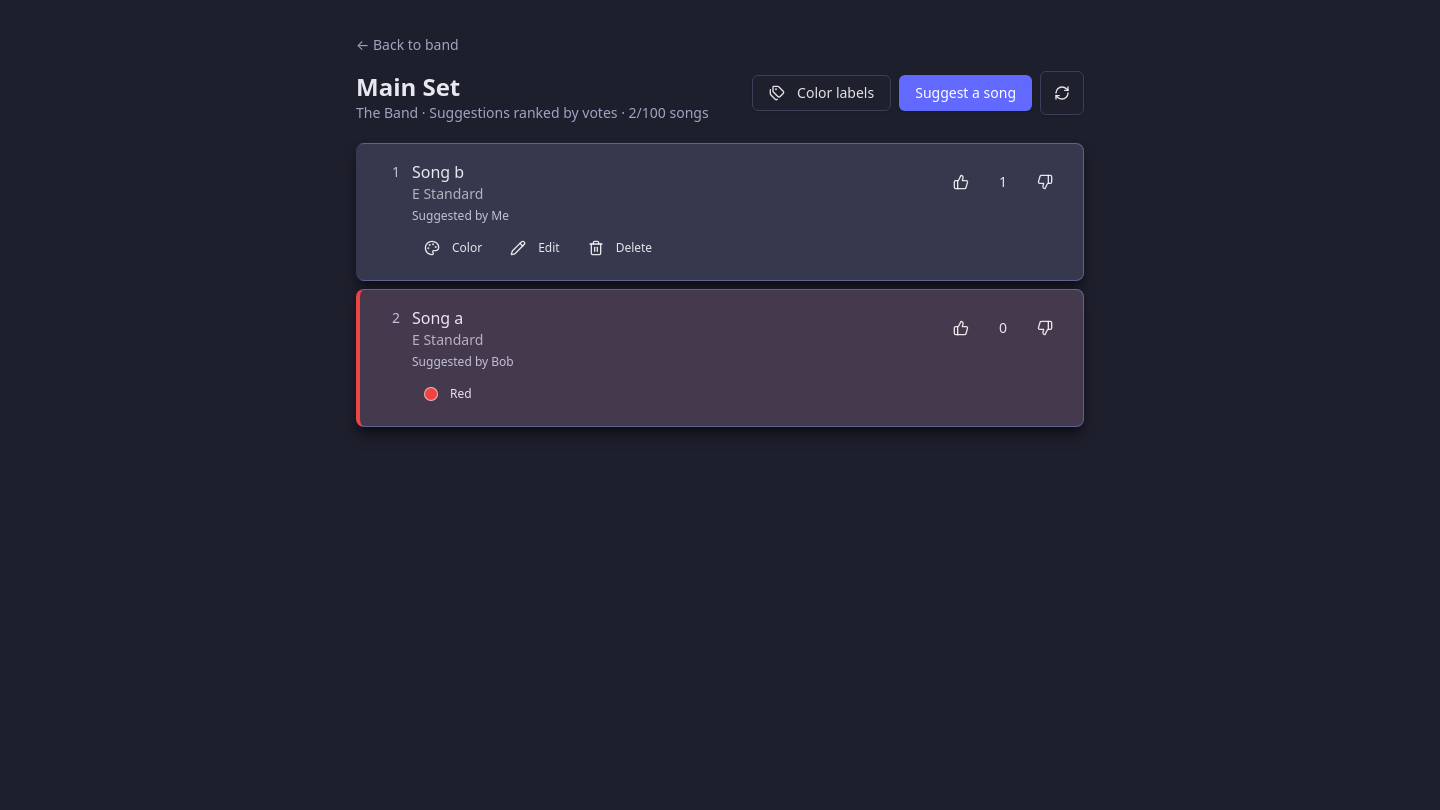
Test: SetListPage › color labels › Color labels dialog › a label shows on a colored song right after saving
Expected: the text "Song a" is shown, 412,307 -> 463,329
Click the button "Color labels" at (822, 93), box 752,75 -> 891,111
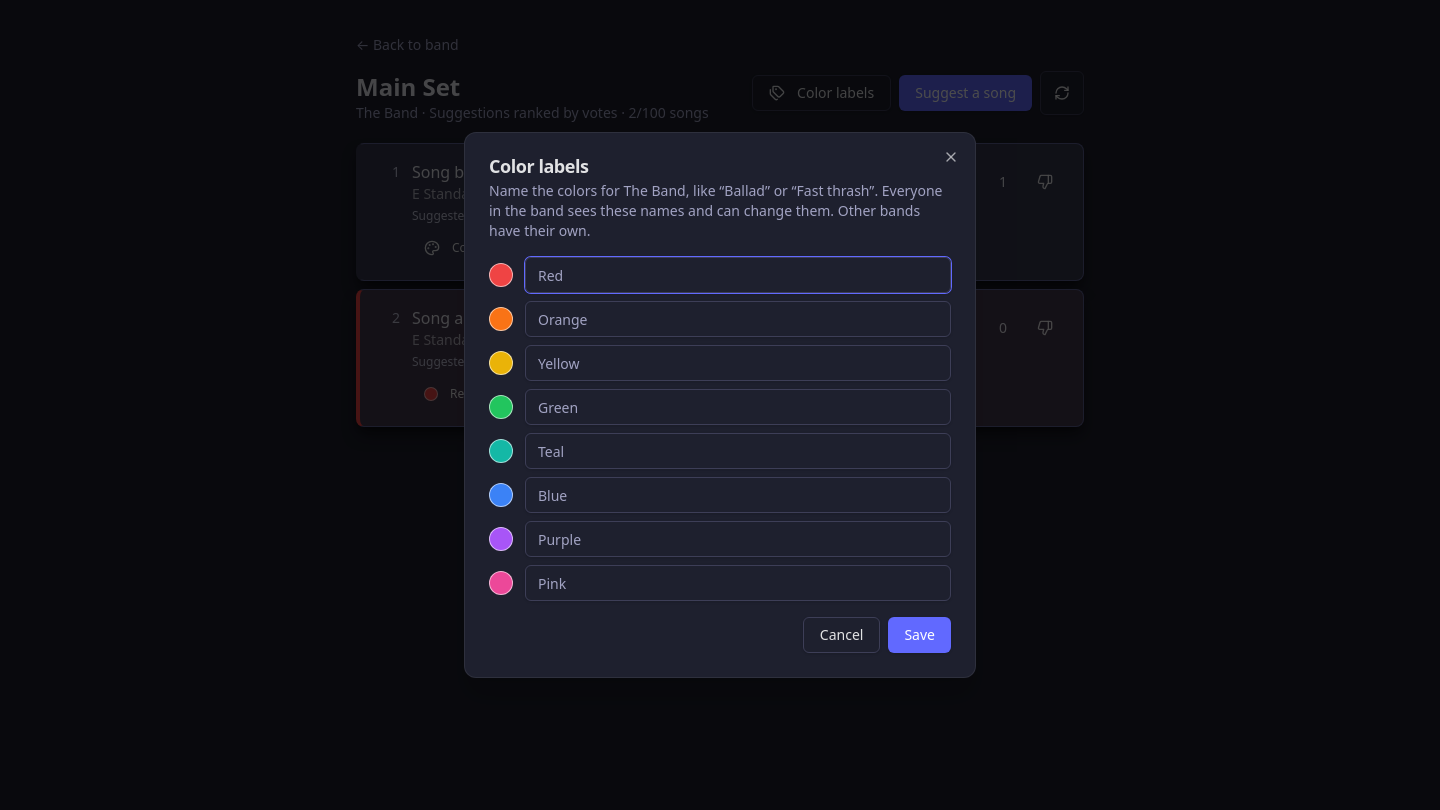
Type "Ballad" into the field with placeholder "Red" at (738, 275), box 525,257 -> 951,293
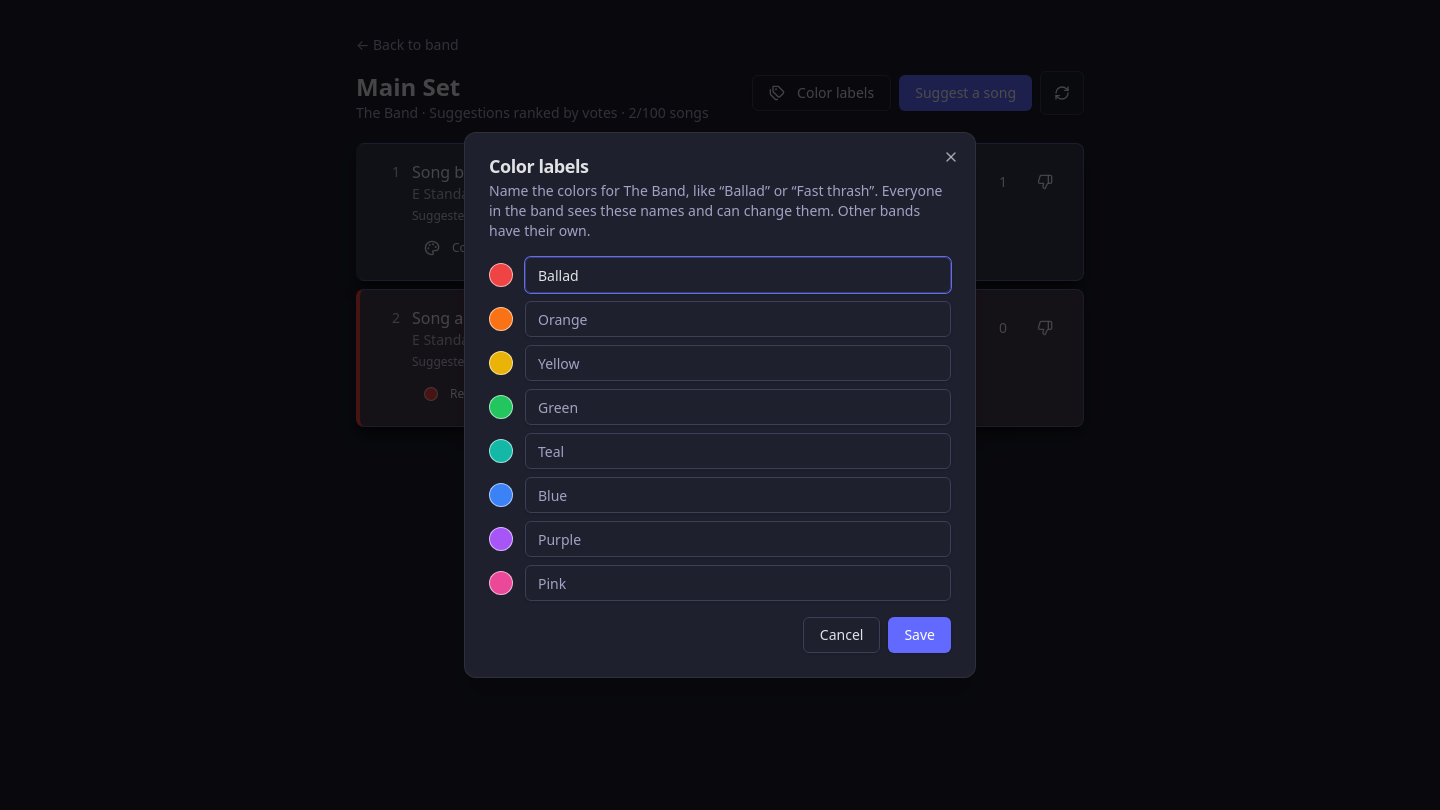
Click the button "Save" at (920, 635), box 888,617 -> 951,653
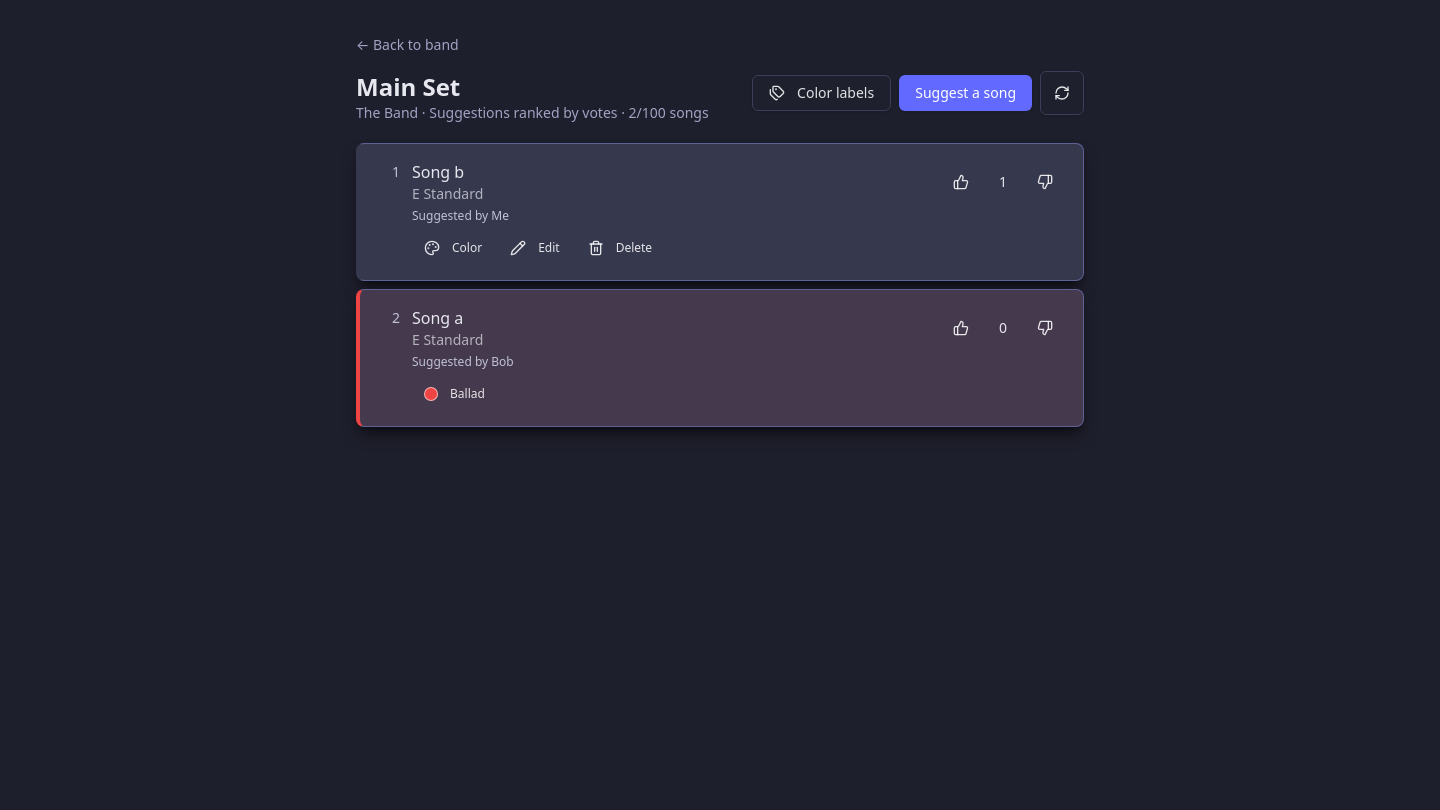
Expected: the button with aria-label "Set color for Song a, now Red, Ballad" is shown, 412,378 -> 497,410
